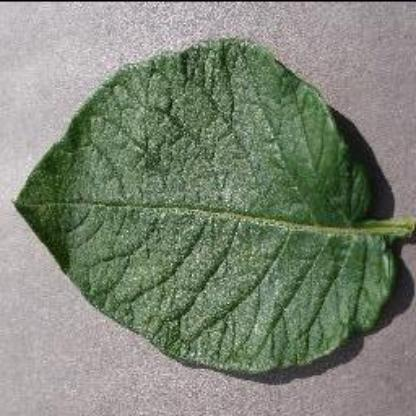Healthy-plant: (16, 35, 398, 387)
